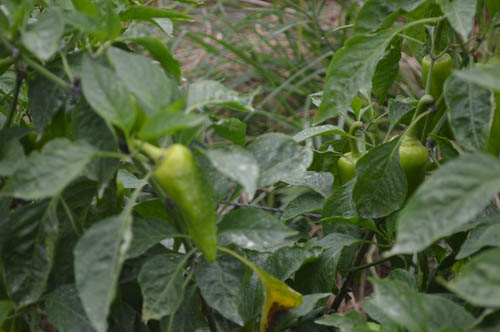ChiliPepper: (159, 147, 219, 261), (396, 142, 429, 214), (423, 55, 448, 133), (337, 154, 368, 212)
